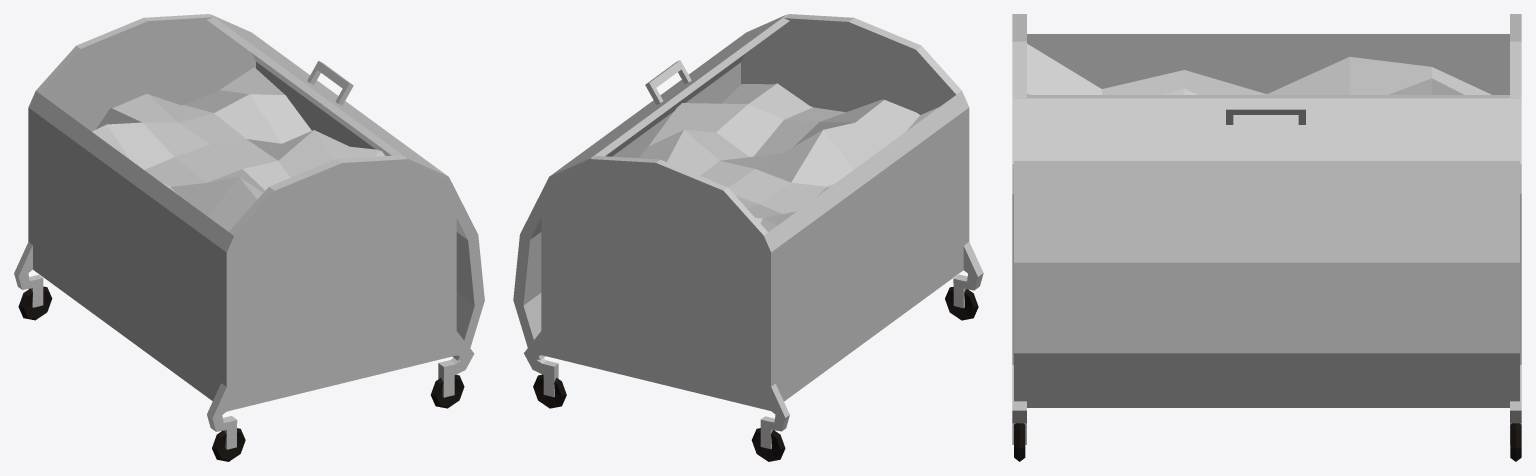
File: model_Kosz_2duzy_otwarty.fbx
The picture shows the model from 3 angles, left to right: view 1: azimuth 30°, elevation 25°; view 2: azimuth 150°, elevation 25°; view 3: azimuth 270°, elevation 25°; orthographic projection. The views are drawn at different scales.
Parts seen in each view (by area): view 1: kosz_2_otwarty; view 2: kosz_2_otwarty; view 3: kosz_2_otwarty.
Boxes of the visible parts, bbox=[...] form: kosz_2_otwarty: bbox=[14, 14, 484, 461]; kosz_2_otwarty: bbox=[513, 14, 983, 461]; kosz_2_otwarty: bbox=[1012, 14, 1521, 461].
Bounding box in the file's own units: 223 × 170 × 177.
